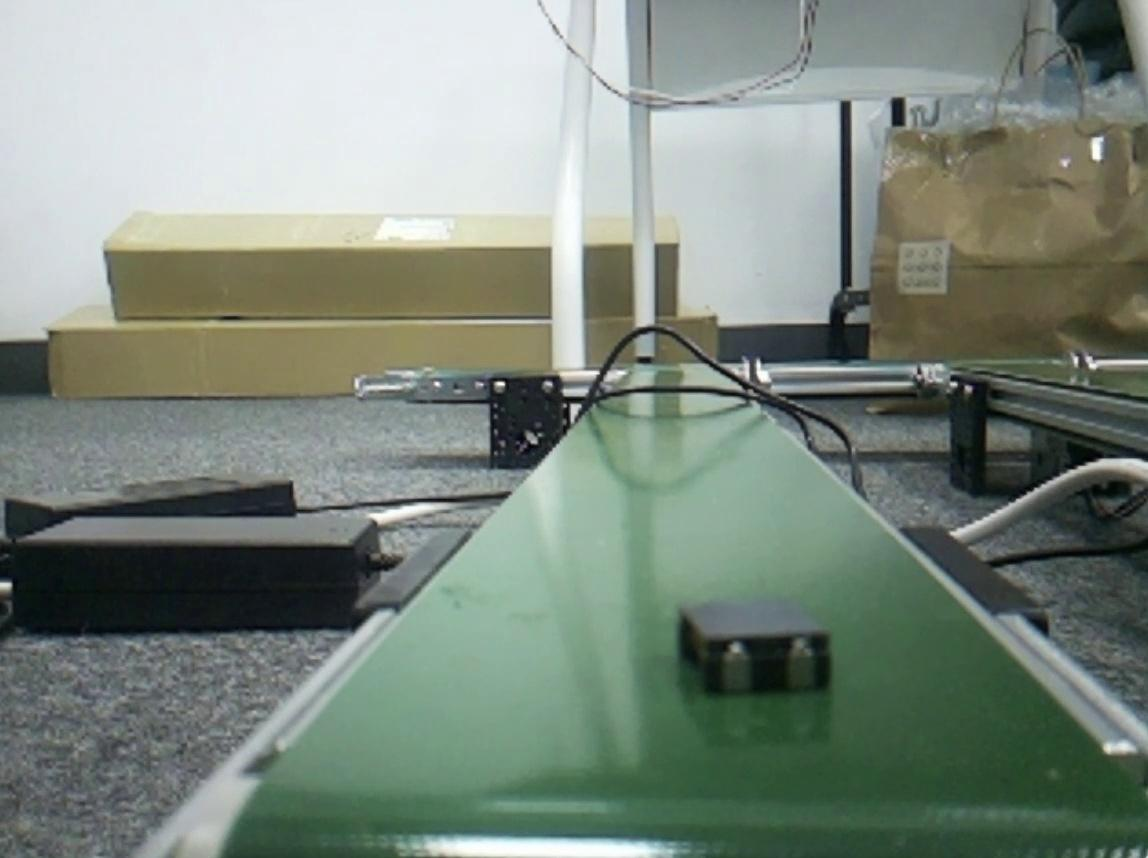inductor: (687, 597, 832, 686)
